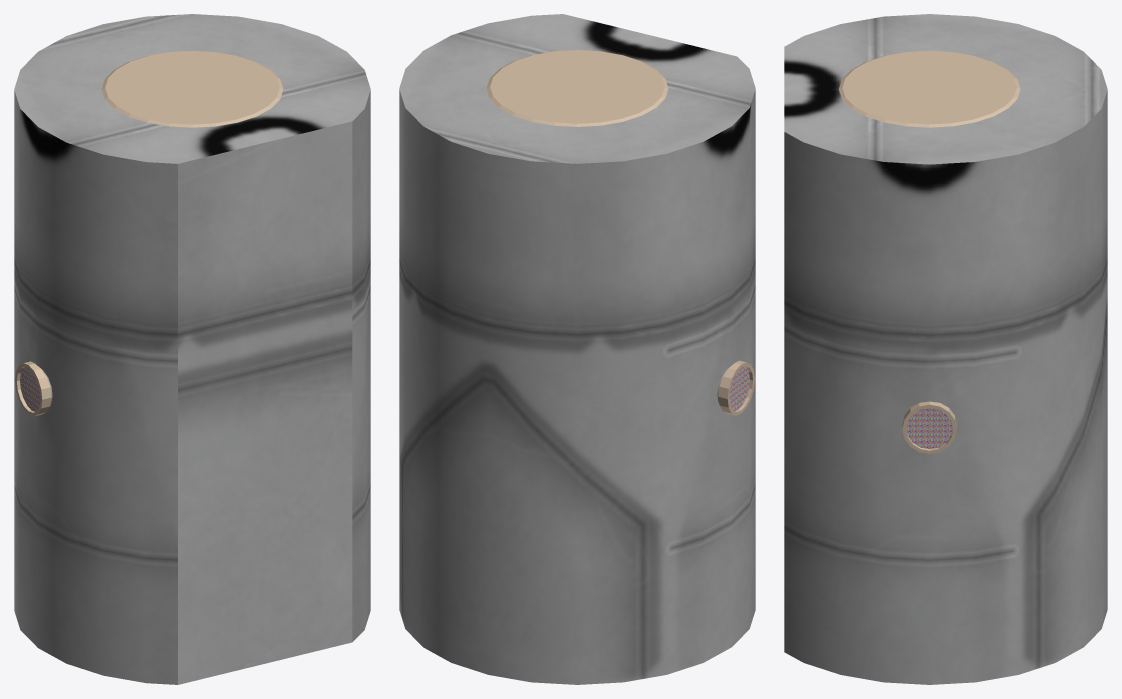
Rendered from nashira_crew_s1_1_interior.obj.
3 renders of one model, left to right at view 1: azimuth 30°, elevation 25°; view 2: azimuth 150°, elevation 25°; view 3: azimuth 270°, elevation 25°, orthographic.
Visible parts, largest first — view 1: i1, im1, iw1; view 2: i1, im1, iw1; view 3: i1, im1, iw1.
Boxes of the visible parts, x1,y1,x2,y2 form: i1: (14, 14, 370, 684); im1: (15, 50, 283, 416); iw1: (20, 367, 40, 411); i1: (399, 14, 755, 684); im1: (486, 50, 754, 415); iw1: (729, 366, 749, 410); i1: (784, 14, 1107, 684); im1: (839, 50, 1020, 453); iw1: (906, 408, 952, 449).
Size of the model in its own units: 1.3 by 1.99 by 1.11.
